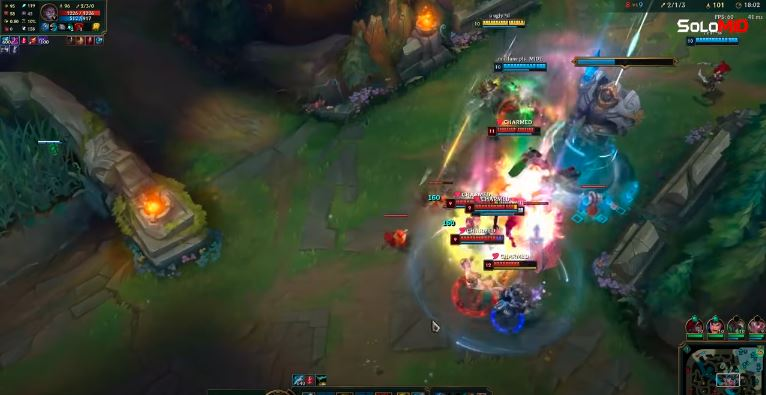bar: (442, 196, 506, 209), (464, 204, 526, 217), (447, 233, 508, 246), (491, 60, 550, 73), (481, 257, 540, 270), (463, 200, 519, 213), (684, 34, 741, 46), (485, 124, 542, 136), (471, 18, 532, 29)
